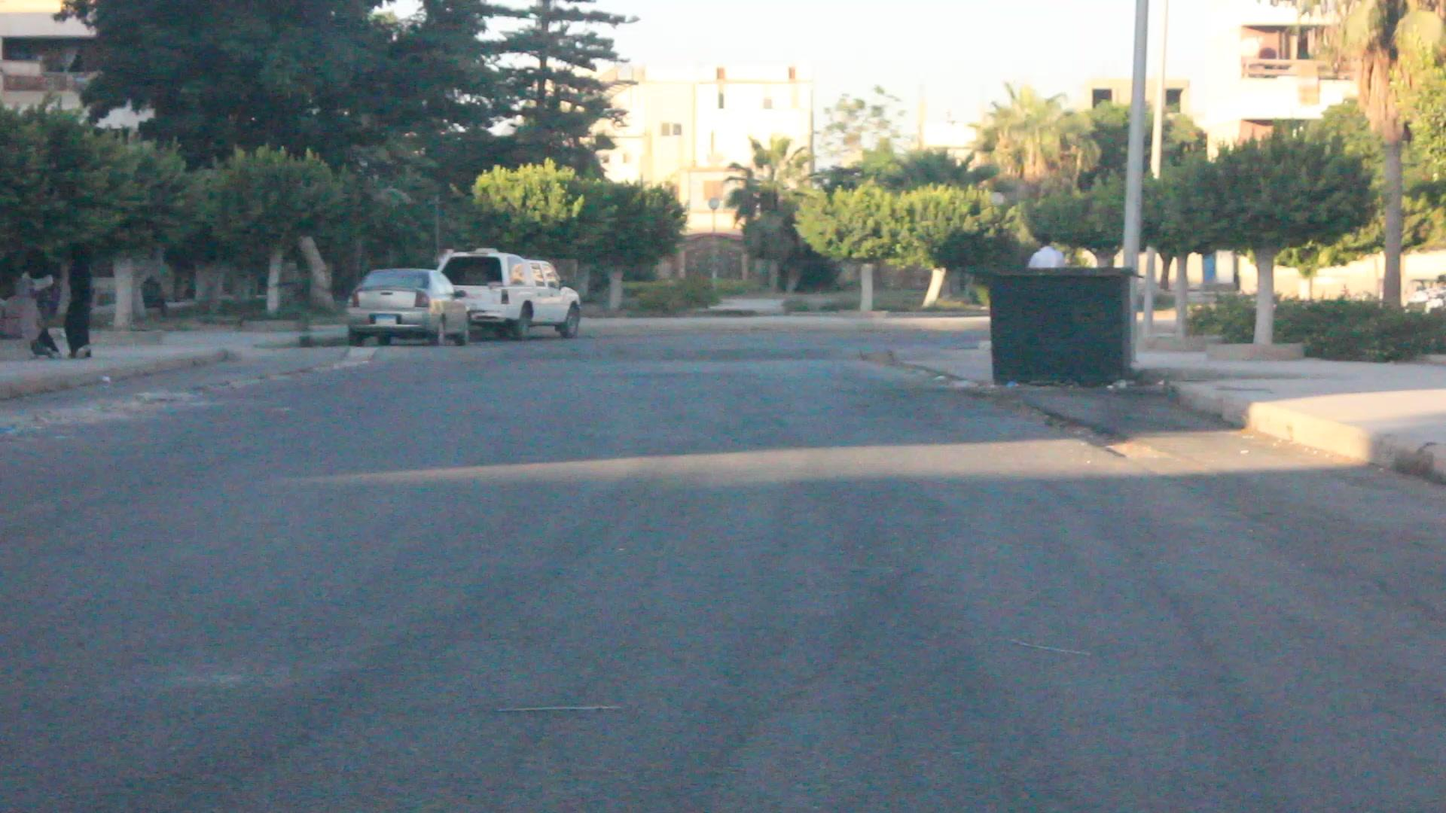Bump: (320, 343, 906, 371)
